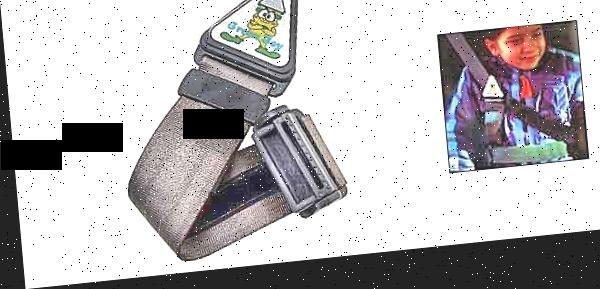seatbelt: (109, 18, 361, 272), (444, 38, 570, 164)
